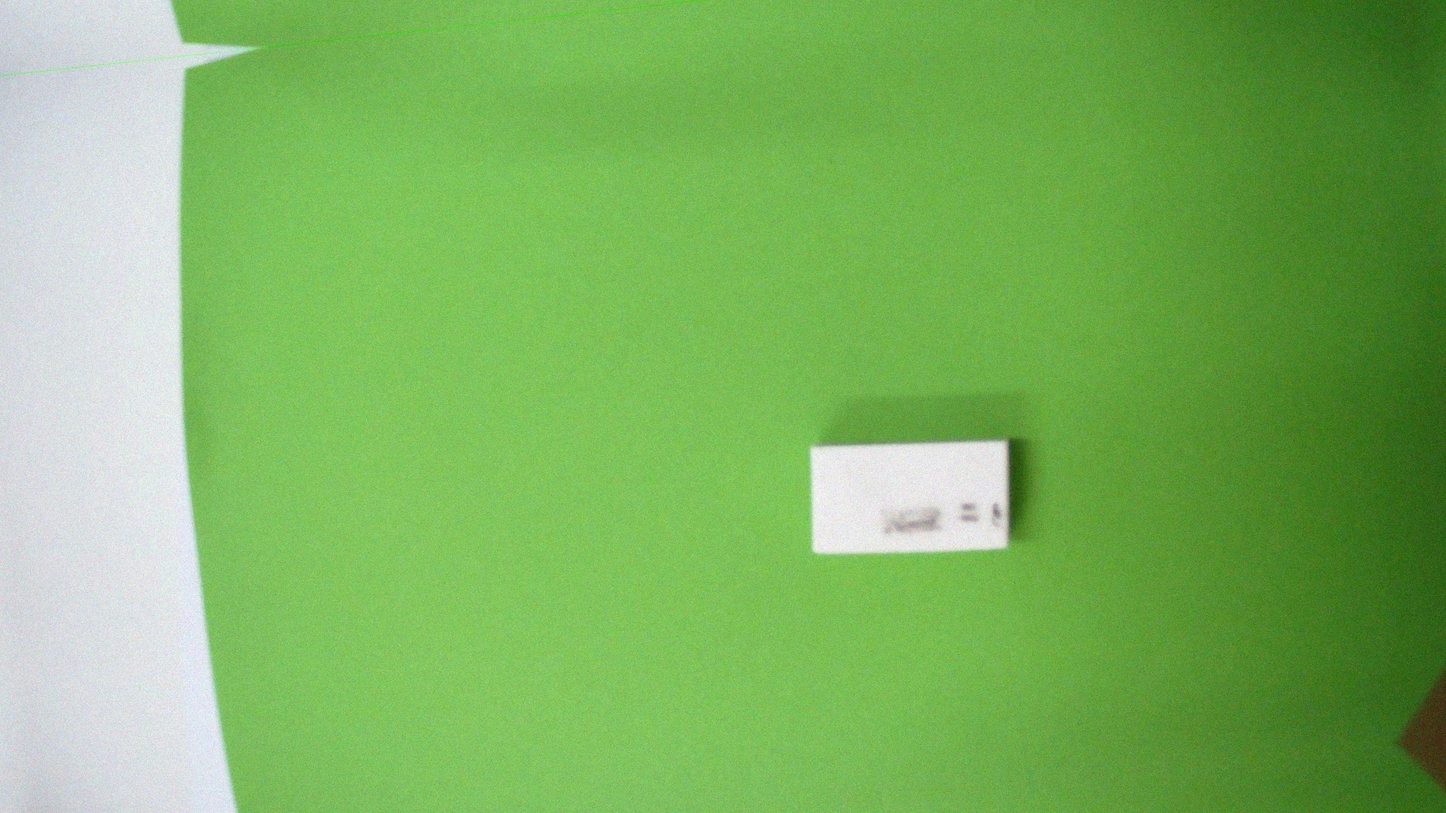gom: (799, 414, 1023, 581)
